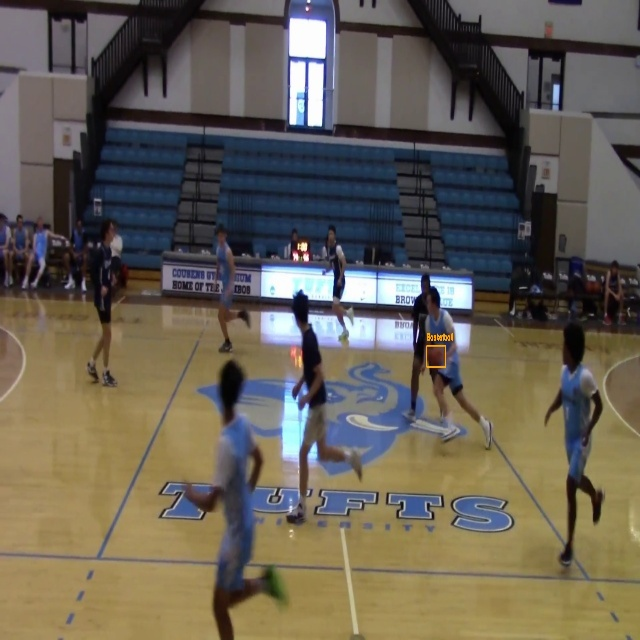Basketball: (427, 346, 445, 367)
